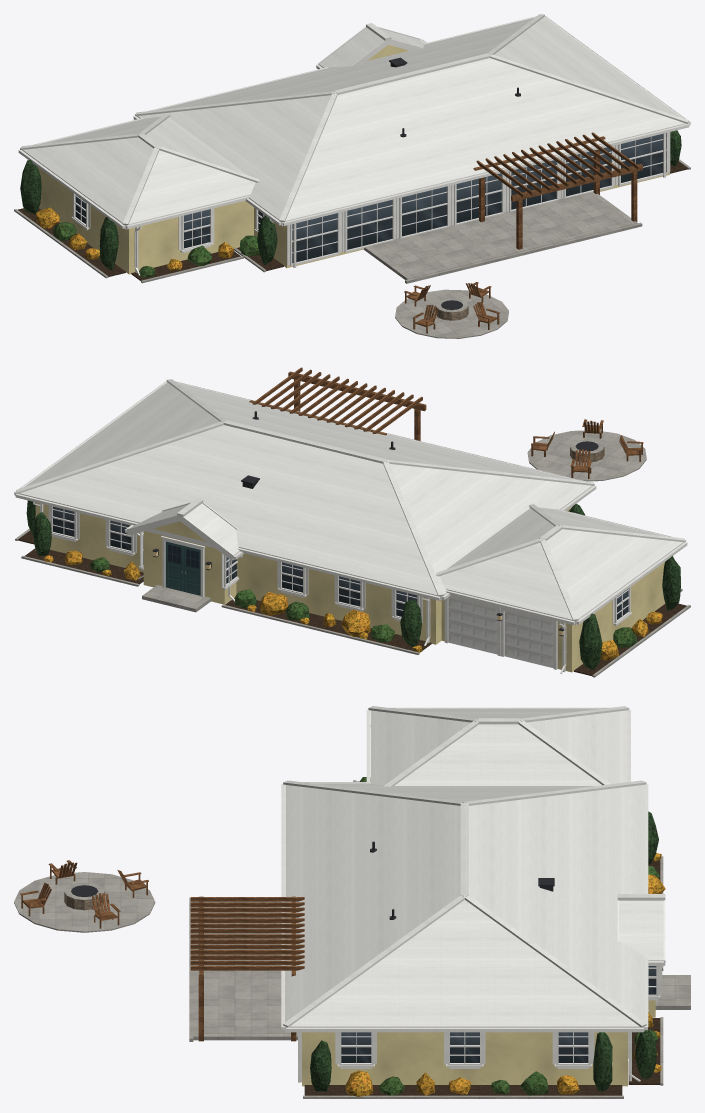
File: med_ranch_marrowind.fbx
3 renders of one model, top to bottom at view 1: azimuth 30°, elevation 25°; view 2: azimuth 150°, elevation 25°; view 3: azimuth 270°, elevation 25°, orthographic. The views are drawn at different scales.
Visible parts, largest first — view 1: med_ranch_marrowind_LOD0; view 2: med_ranch_marrowind_LOD0; view 3: med_ranch_marrowind_LOD0.
Part boxes in pixels (x1,y1,x2,y2): med_ranch_marrowind_LOD0: (14,14,690,338); med_ranch_marrowind_LOD0: (14,367,690,677); med_ranch_marrowind_LOD0: (14,706,690,1098).
Size of what is drawn, in the model's own units: 28.73 by 4.99 by 24.92.
Materials: 2 (2 with a texture image).
